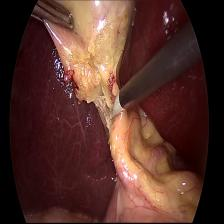Grasper: (28, 0, 76, 33)
Hook: (108, 84, 128, 124)
